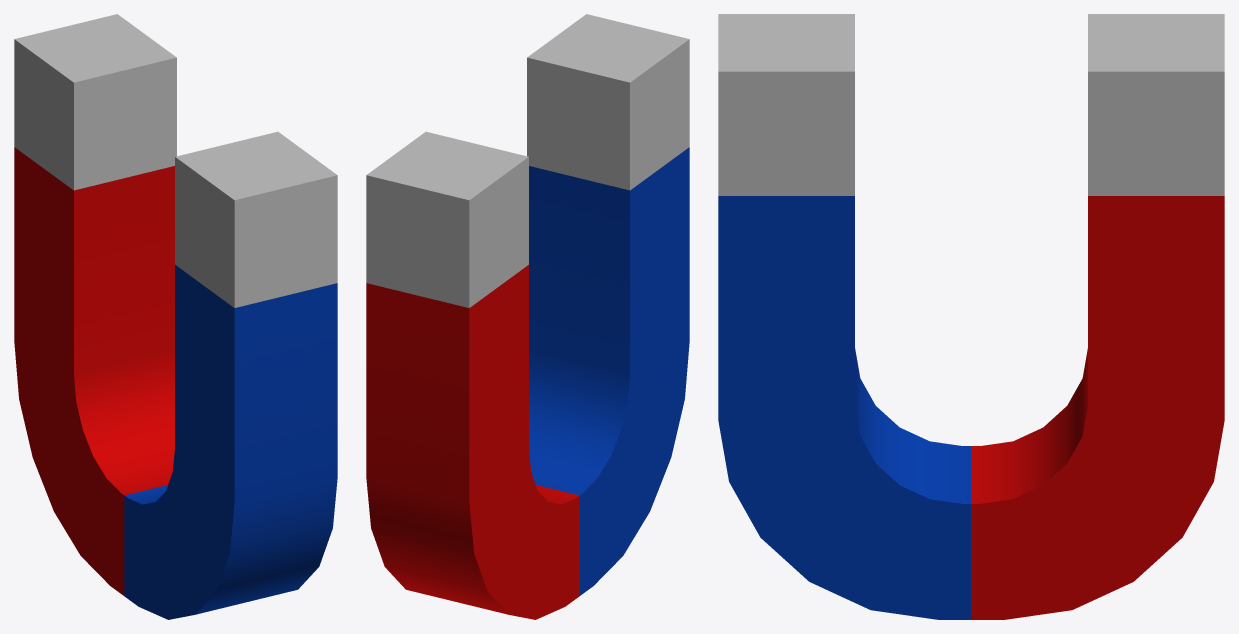
Rendered from Magnet.fbx.
The picture shows the model from 3 angles, left to right: view 1: azimuth 30°, elevation 25°; view 2: azimuth 150°, elevation 25°; view 3: azimuth 270°, elevation 25°; orthographic projection. The views are drawn at different scales.
Visible parts, largest first — view 1: Cube; view 2: Cube; view 3: Cube.
Boxes of the visible parts, x1,y1,x2,y2 form: Cube: (14,14,337,619); Cube: (366,14,689,619); Cube: (718,14,1224,619).
Bounding box in the file's own units: 18.51 × 81.81 × 68.51.
